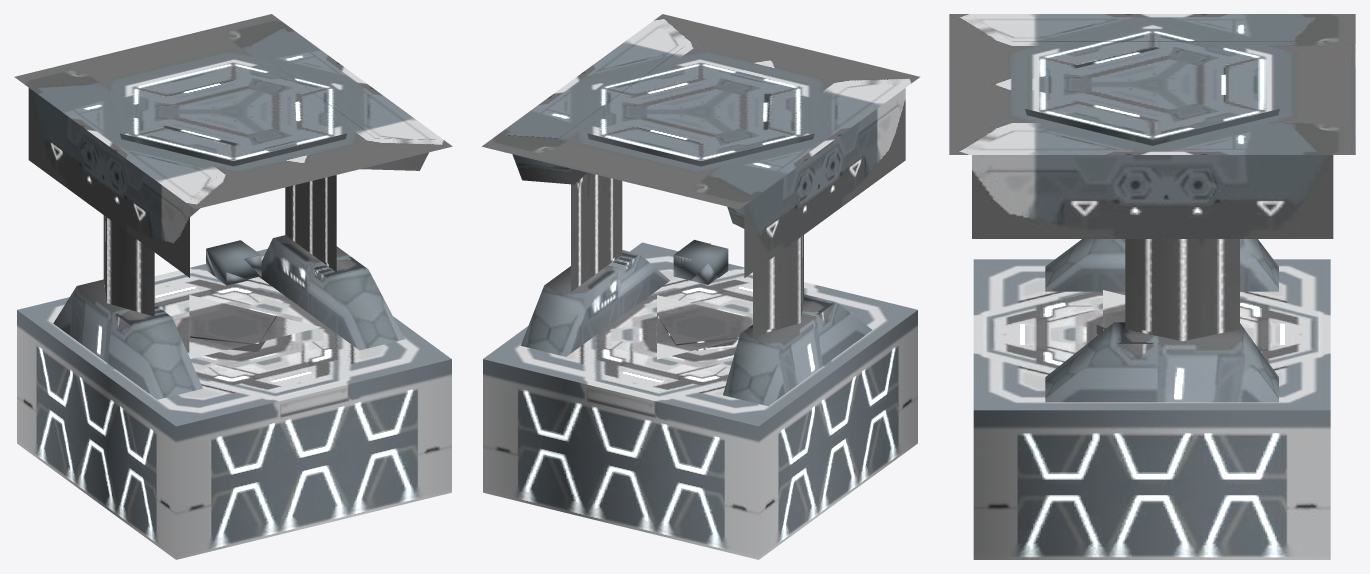
3 views of the same model, side by side, from view 1: azimuth 30°, elevation 25°; view 2: azimuth 150°, elevation 25°; view 3: azimuth 270°, elevation 25° (orthographic). The views are drawn at different scales.
Visible parts, largest first — view 1: assembler-mk-4-lod2; view 2: assembler-mk-4-lod2; view 3: assembler-mk-4-lod2.
Boxes of the visible parts, <box> form: assembler-mk-4-lod2: <box>14,14,452,559</box>; assembler-mk-4-lod2: <box>482,14,919,559</box>; assembler-mk-4-lod2: <box>949,14,1355,559</box>.
Bounding box in the file's own units: 4 × 5.02 × 4.55.
Materials: 1 (1 with a texture image).
